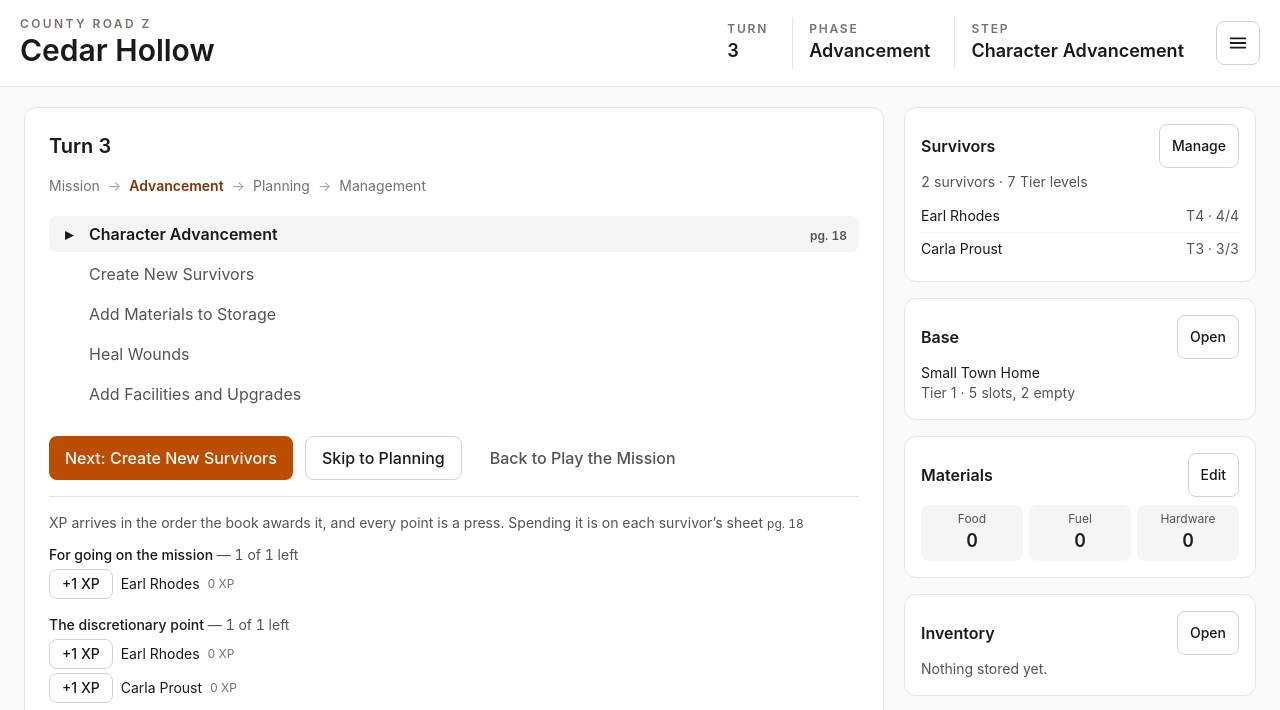
Test: Character Advancement › hands a point over, and says so on the survivor’s row
The width and height of the screenshot is (1280, 710).
Expected: the text "For going on the mission — 1 of 1 left" is shown, [49,546,298,562]
Click the button "+1 XP" below "For going on the mission": (81, 584) [49,568,113,598]
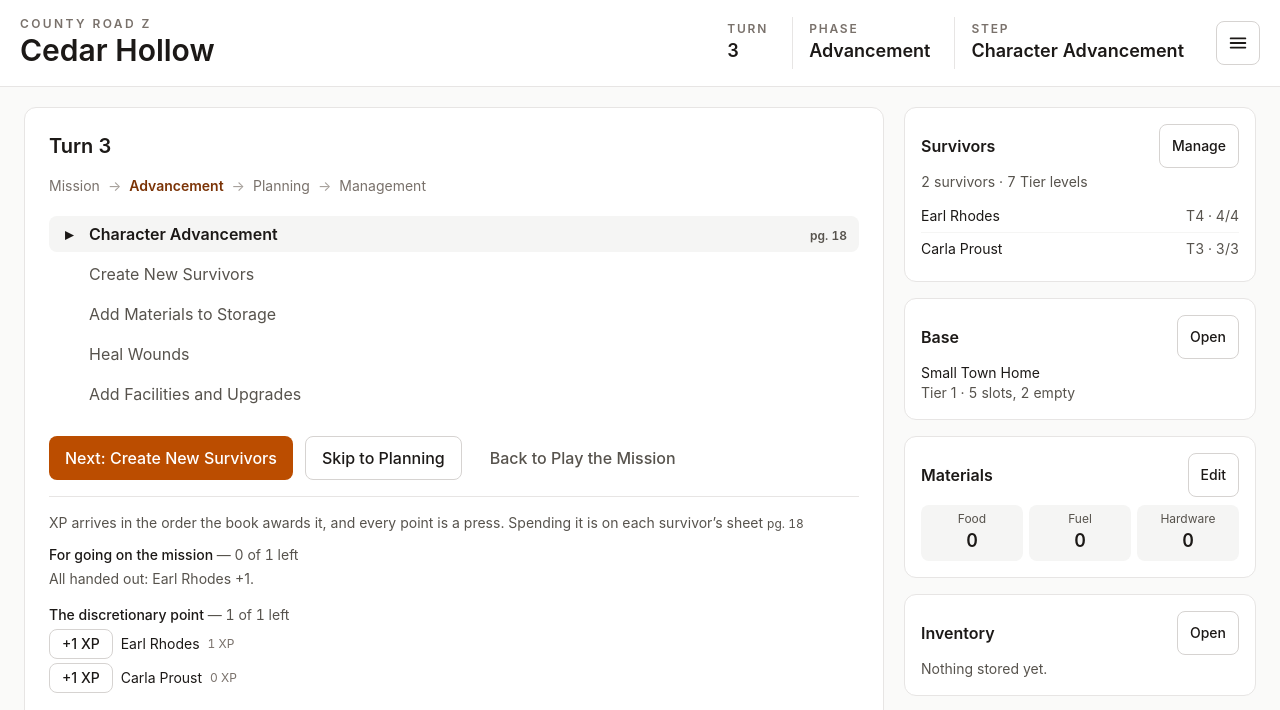
Result: the text "For going on the mission — 0 of 1 left" is shown at [49,546,298,562]
Result: the text "All handed out: Earl Rhodes +1." is shown at [49,570,254,586]
